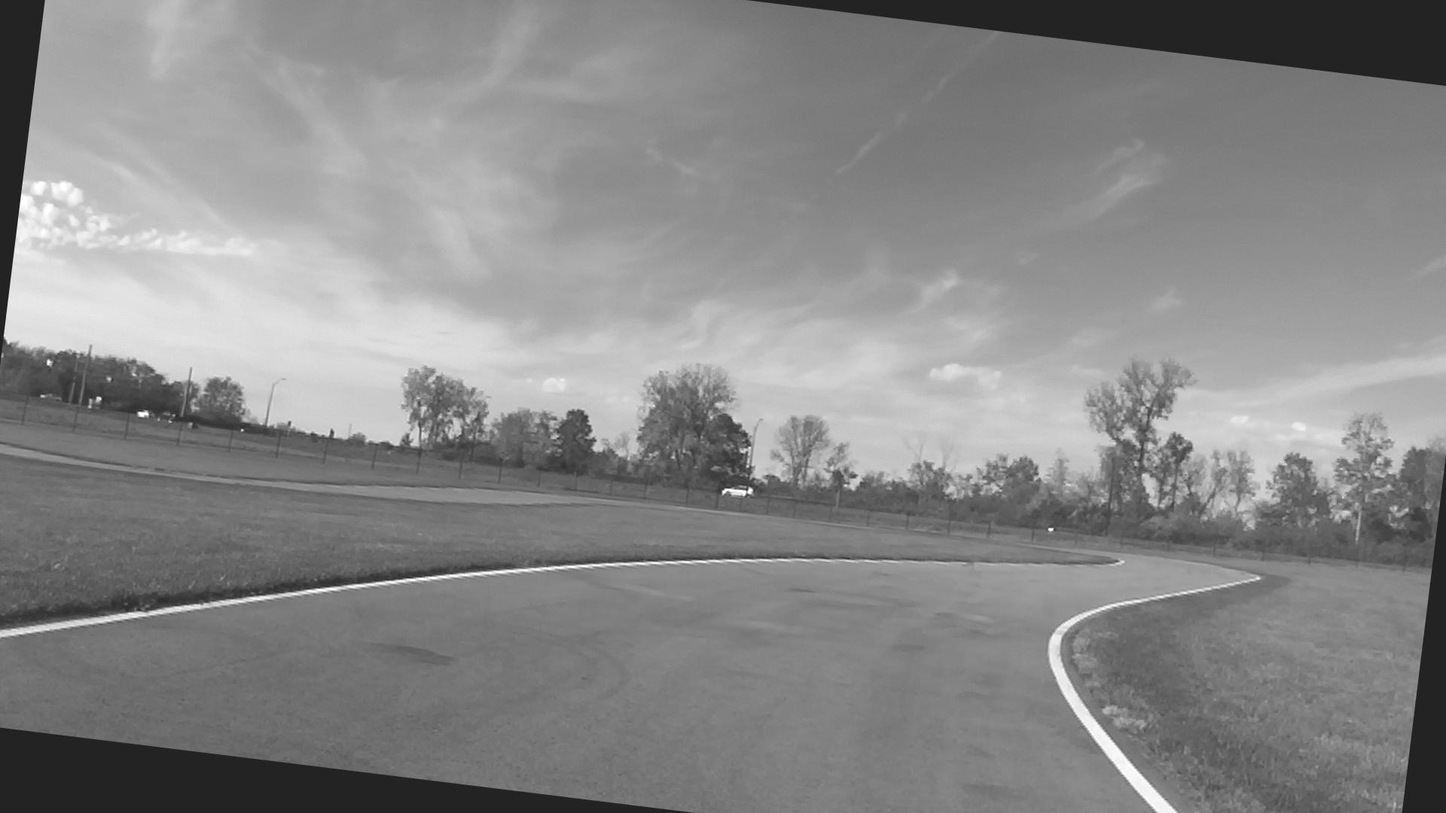white-line: (0, 557, 1118, 638), (1046, 576, 1258, 813)
